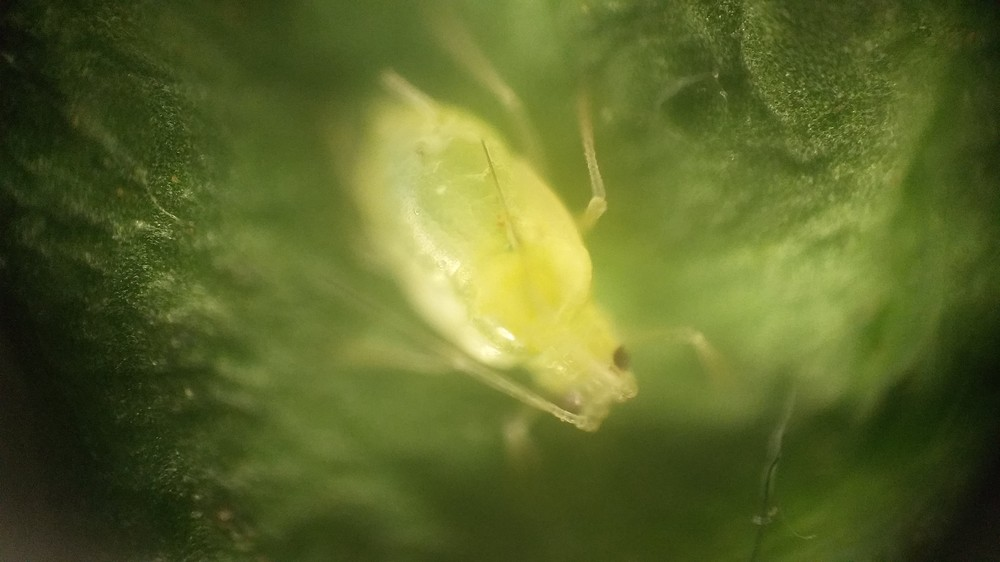Pulgon: (270, 21, 781, 514)
